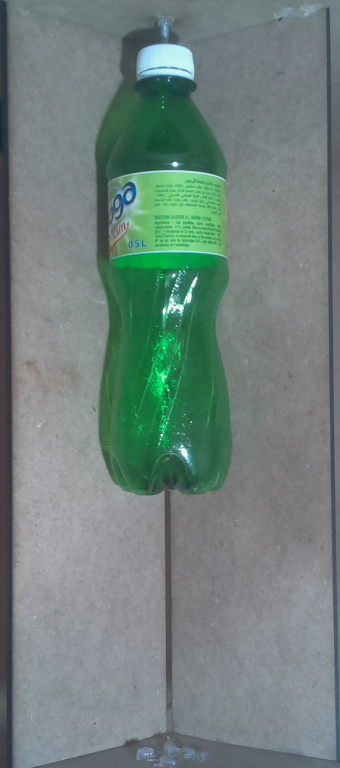Bouteille_0.5L: (91, 35, 240, 498)
